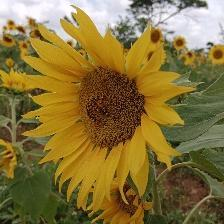sunflower: (19, 5, 198, 215)
